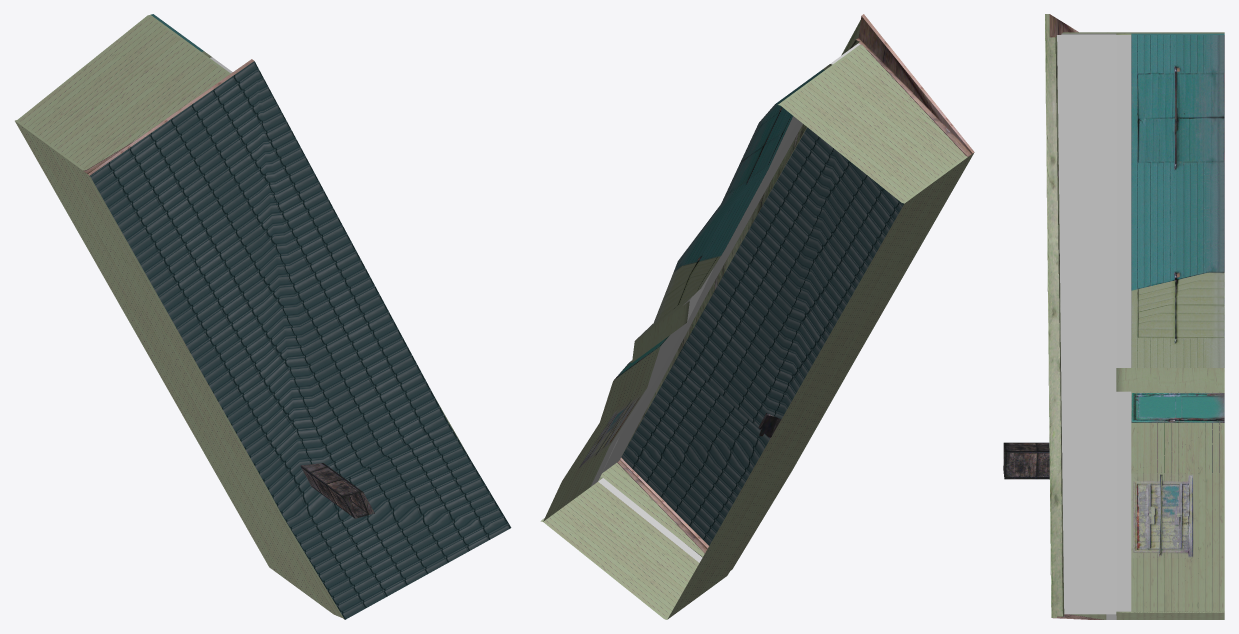
The model's file is Toompuiestee_8b-origo.obj.
3 views of the same model, side by side, from view 1: azimuth 30°, elevation 25°; view 2: azimuth 150°, elevation 25°; view 3: azimuth 270°, elevation 25° (orthographic). The views are drawn at different scales.
Parts seen in each view (by area): view 1: Box001; view 2: Box001; view 3: Box001.
Part boxes in pixels (box(x1,y1,x2,y2)): Box001: box(15, 14, 511, 619); Box001: box(540, 14, 974, 619); Box001: box(1003, 14, 1224, 619).
Size of the model in its own units: 8.69 by 12.5 by 4.52.
